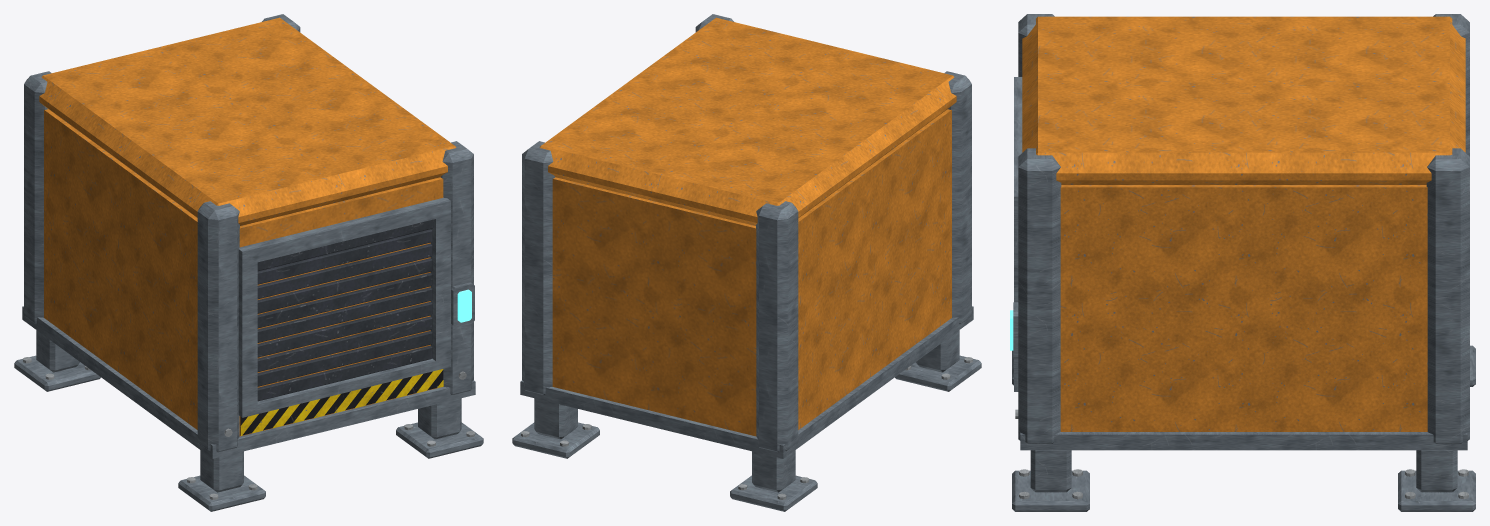
Rendered from base_room.fbx.
3 renders of one model, left to right at view 1: azimuth 30°, elevation 25°; view 2: azimuth 150°, elevation 25°; view 3: azimuth 270°, elevation 25°, orthographic. The views are drawn at different scales.
Parts seen in each view (by area): view 1: BaseRoom_Orange, BaseRoom_SteelGrey, BaseRoom_Shutter_DarkGrey, BaseRoom_Yellow, BaseRoom_Black, BaseRoom_SteelLight; view 2: BaseRoom_Orange, BaseRoom_SteelGrey; view 3: BaseRoom_Orange, BaseRoom_SteelGrey, BaseRoom_SteelLight.
Part boxes in pixels (x1,y1,x2,y2): BaseRoom_Orange: [39, 17, 456, 436]; BaseRoom_SteelGrey: [14, 14, 483, 511]; BaseRoom_Shutter_DarkGrey: [257, 219, 433, 401]; BaseRoom_Yellow: [240, 369, 443, 435]; BaseRoom_Black: [240, 370, 443, 435]; BaseRoom_SteelLight: [23, 357, 474, 499]; BaseRoom_Orange: [539, 17, 956, 436]; BaseRoom_SteelGrey: [512, 14, 981, 511]; BaseRoom_Orange: [1022, 16, 1465, 431]; BaseRoom_SteelGrey: [1012, 14, 1475, 511]; BaseRoom_SteelLight: [1015, 409, 1468, 499].
Bounding box in the file's own units: 9.1 × 9.4 × 11.35.
Materials: 7 (6 with a texture image).
